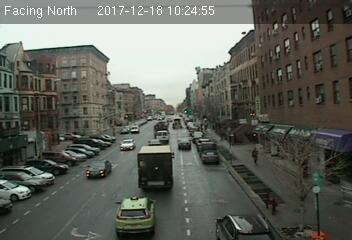car: (212, 214, 278, 240), (115, 195, 156, 232), (85, 157, 110, 177), (202, 150, 218, 163), (121, 139, 135, 151), (177, 138, 191, 148)
pedestrian: (252, 148, 258, 164)
truck: (156, 129, 169, 142)
ups: (137, 144, 174, 191)
